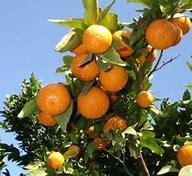orange: (147, 12, 191, 50), (63, 49, 100, 82), (37, 80, 69, 114), (77, 84, 106, 119), (80, 14, 107, 51), (102, 60, 130, 90), (169, 139, 192, 168), (100, 112, 126, 135), (44, 151, 73, 170)
